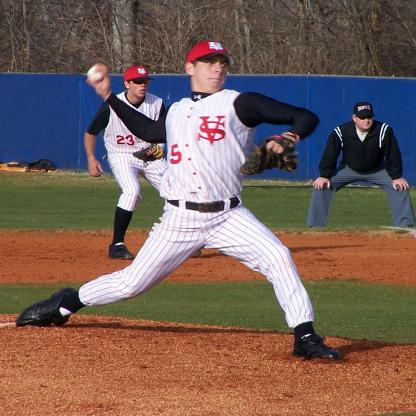face: (196, 55, 227, 88), (131, 77, 148, 98), (358, 112, 374, 130)
